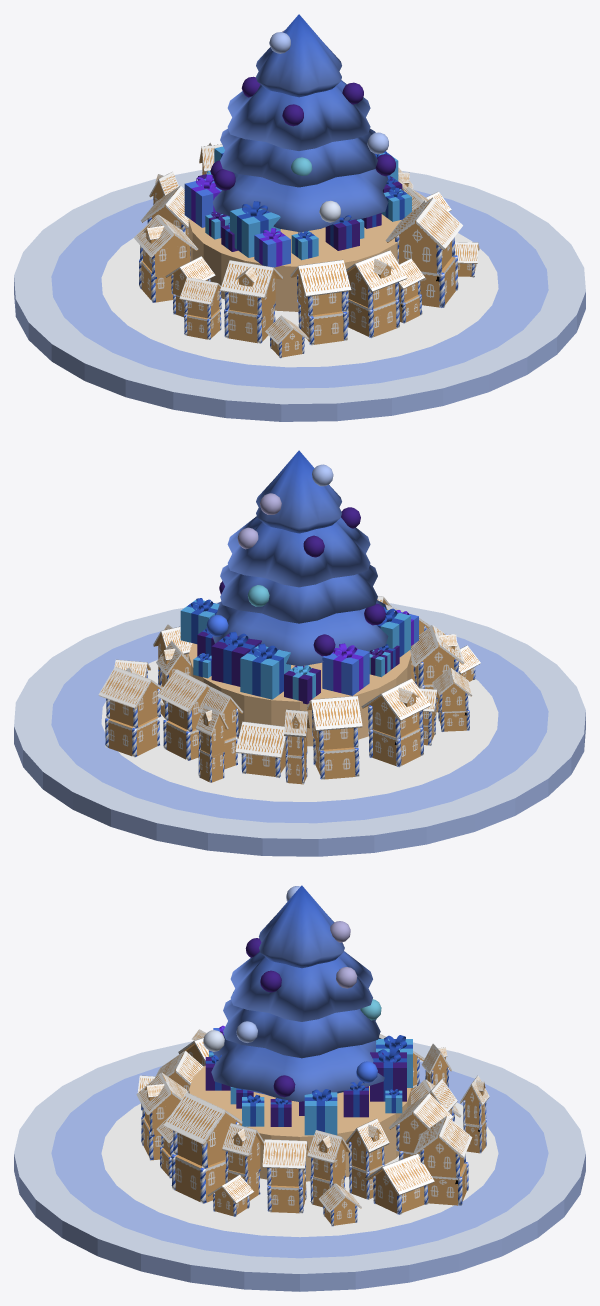
The model's file is xmas-Tree.glb.
3 renders of one model, top to bottom at view 1: azimuth 30°, elevation 25°; view 2: azimuth 150°, elevation 25°; view 3: azimuth 270°, elevation 25°, orthographic.
Parts seen in each view (by area): view 1: Cylinder; view 2: Cylinder; view 3: Cylinder.
Boxes of the visible parts, x1=… form: Cylinder: x1=14, y1=14, x2=585, y2=421; Cylinder: x1=14, y1=450, x2=585, y2=856; Cylinder: x1=14, y1=885, x2=585, y2=1291.
Bounding box in the file's own units: 30.93 × 17.05 × 30.93.
Materials: 2 (2 with a texture image).
